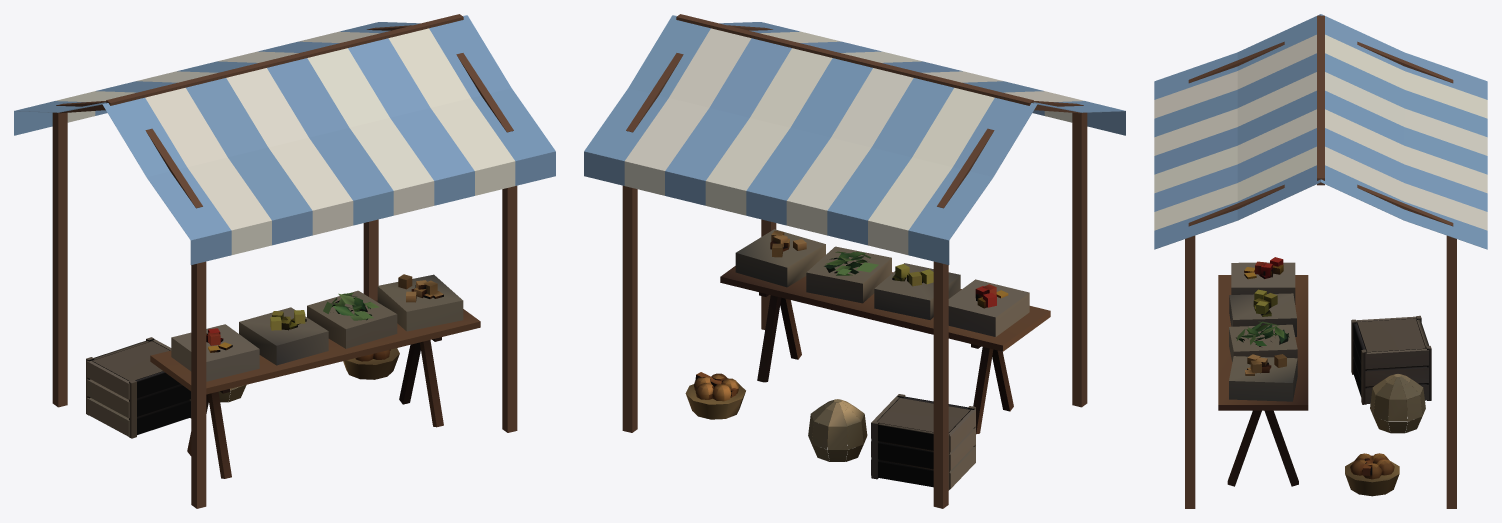
The model's file is toldo_mercado.glb.
The picture shows the model from 3 angles, left to right: view 1: azimuth 30°, elevation 25°; view 2: azimuth 150°, elevation 25°; view 3: azimuth 270°, elevation 25°; orthographic projection. The views are drawn at different scales.
Visible parts, largest first — view 1: toldo_mercado_fijo, toldo_mercado_piezas, toldo_mercado_vegetacion; view 2: toldo_mercado_fijo, toldo_mercado_piezas, toldo_mercado_vegetacion; view 3: toldo_mercado_fijo, toldo_mercado_piezas, toldo_mercado_vegetacion.
Part boxes in pixels (x1=…): toldo_mercado_fijo: x1=14, y1=14, x2=555, y2=508; toldo_mercado_piezas: x1=86, y1=274, x2=480, y2=478; toldo_mercado_vegetacion: x1=323, y1=292, x2=379, y2=320; toldo_mercado_fijo: x1=584, y1=14, x2=1125, y2=508; toldo_mercado_piezas: x1=685, y1=229, x2=1050, y2=490; toldo_mercado_vegetacion: x1=824, y1=251, x2=878, y2=275; toldo_mercado_fijo: x1=1154, y1=14, x2=1487, y2=508; toldo_mercado_piezas: x1=1218, y1=257, x2=1431, y2=496; toldo_mercado_vegetacion: x1=1236, y1=321, x2=1289, y2=346.
Bounding box in the file's own units: 3.1 × 2.92 × 2.6.
